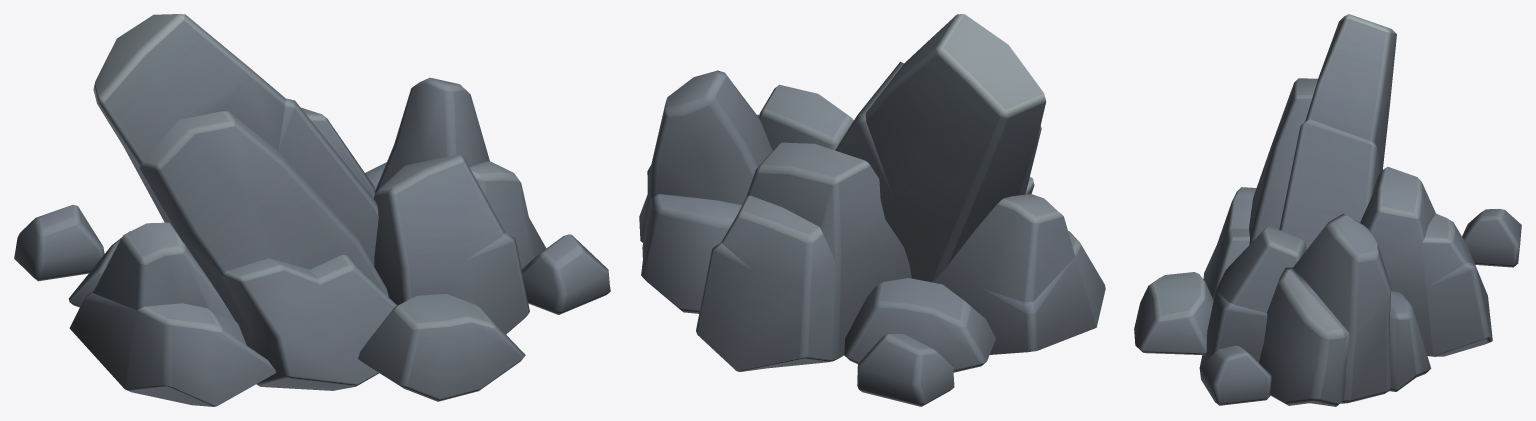
The model's file is rock_group_medium_2.fbx.
3 views of the same model, side by side, from view 1: azimuth 30°, elevation 25°; view 2: azimuth 150°, elevation 25°; view 3: azimuth 270°, elevation 25° (orthographic). The views are drawn at different scales.
Parts seen in each view (by area): view 1: rock_arrangement_medium_2; view 2: rock_arrangement_medium_2; view 3: rock_arrangement_medium_2.
Part boxes in pixels (x1,y1,x2,y2): rock_arrangement_medium_2: [14, 14, 610, 406]; rock_arrangement_medium_2: [639, 14, 1105, 406]; rock_arrangement_medium_2: [1134, 14, 1521, 406].
Size of the model in its own units: 652 by 488 by 598.
